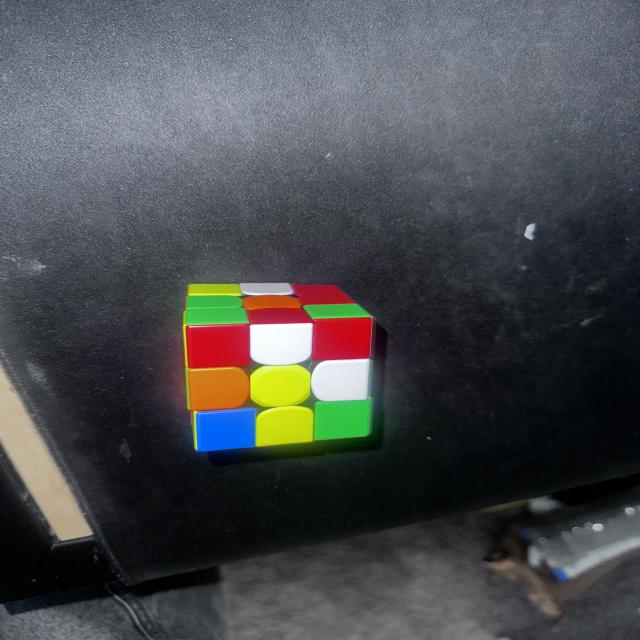sticker: (301, 293, 375, 363), (183, 317, 252, 371), (186, 365, 253, 413), (247, 322, 314, 369), (248, 364, 312, 409), (194, 408, 256, 453), (310, 358, 372, 403), (312, 397, 372, 442), (254, 405, 316, 448), (242, 294, 303, 312), (185, 294, 243, 310), (185, 284, 245, 298), (238, 282, 298, 296), (290, 284, 349, 296)
